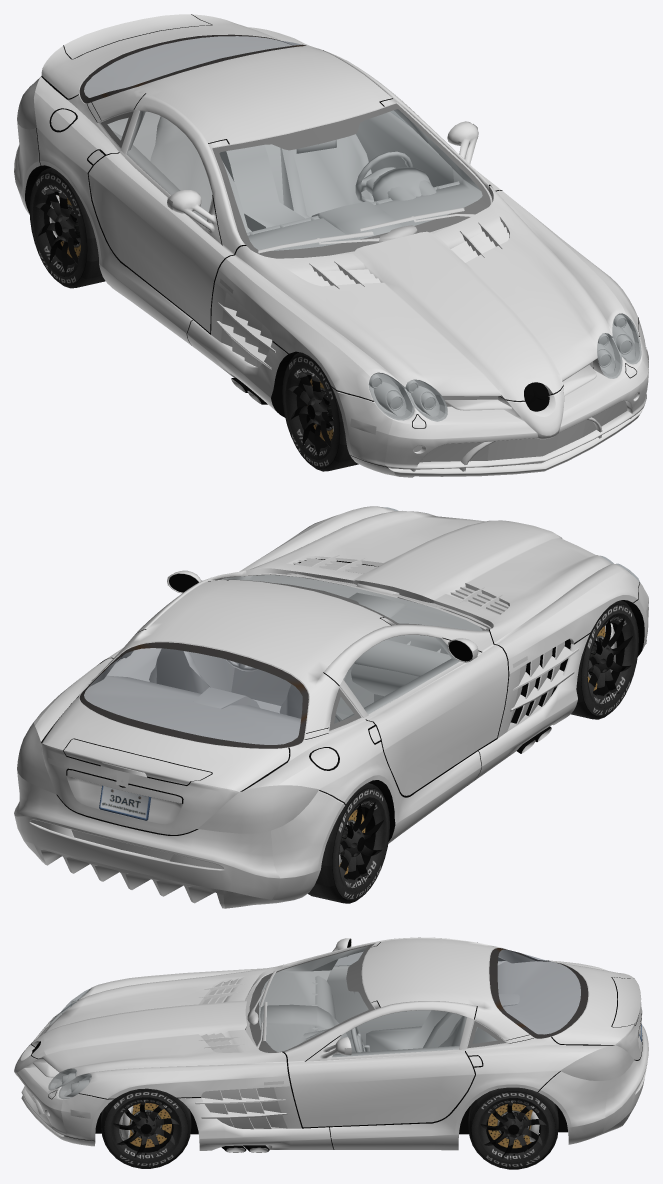
The model's file is Merci for AR.fbx.
The picture shows the model from 3 angles, top to bottom: view 1: azimuth 30°, elevation 25°; view 2: azimuth 150°, elevation 25°; view 3: azimuth 270°, elevation 25°; orthographic projection. The views are drawn at different scales.
Parts seen in each view (by area): view 1: polySurface189, Hood, WindF, polySurface6, polySurface190, TireRL1, polySurface195, LicenseR1, WindR, polySurface3, WindFR, HLightLG1 (+9 smaller); view 2: polySurface189, Hood, LicenseR1, WindR, polySurface190, polySurface195, TireRL1, polySurface6, WindFR, BLightRG1, WindF, polySurface3 (+8 smaller); view 3: polySurface189, Hood, polySurface3, TireRL1, WindF, polySurface6, WindR, polySurface195, LicenseR1, WindFL, polySurface190, RotorFL1 (+9 smaller).
Part boxes in pixels (bbox=[...]): polySurface189: bbox=[14, 27, 648, 477]; Hood: bbox=[235, 186, 612, 400]; WindF: bbox=[212, 103, 490, 258]; polySurface6: bbox=[150, 116, 482, 250]; polySurface190: bbox=[88, 93, 245, 332]; TireRL1: bbox=[29, 167, 358, 471]; polySurface195: bbox=[25, 36, 593, 417]; LicenseR1: bbox=[41, 14, 279, 98]; WindR: bbox=[79, 34, 306, 103]; polySurface3: bbox=[323, 50, 501, 190]; WindFR: bbox=[127, 111, 212, 220]; HLightLG1: bbox=[369, 313, 641, 421]; polySurface189: bbox=[14, 506, 648, 900]; Hood: bbox=[246, 510, 611, 642]; LicenseR1: bbox=[41, 697, 289, 834]; WindR: bbox=[79, 642, 308, 748]; polySurface190: bbox=[324, 618, 508, 795]; polySurface195: bbox=[24, 558, 644, 908]; TireRL1: bbox=[308, 600, 638, 903]; polySurface6: bbox=[183, 575, 482, 719]; WindFR: bbox=[343, 635, 459, 714]; BLightRG1: bbox=[17, 721, 318, 833]; WindF: bbox=[213, 574, 490, 630]; polySurface3: bbox=[106, 570, 246, 692]; polySurface189: bbox=[14, 938, 648, 1150]; Hood: bbox=[31, 965, 286, 1076]; polySurface3: bbox=[283, 1001, 476, 1127]; TireRL1: bbox=[101, 1087, 558, 1169]; WindF: bbox=[249, 943, 374, 1052]; polySurface6: bbox=[259, 970, 519, 1052]; WindR: bbox=[489, 948, 588, 1038]; polySurface195: bbox=[95, 961, 634, 1140]; LicenseR1: bbox=[552, 962, 642, 1059]; WindFL: bbox=[332, 1010, 466, 1056]; polySurface190: bbox=[282, 937, 505, 1044]; RotorFL1: bbox=[126, 1103, 539, 1148].
Bounding box in the file's own units: 4.84 × 3.11 × 11.84.
